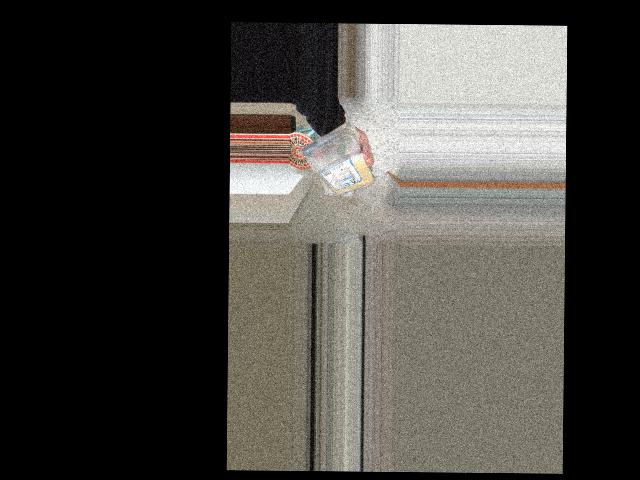cheese: (300, 126, 365, 201)
